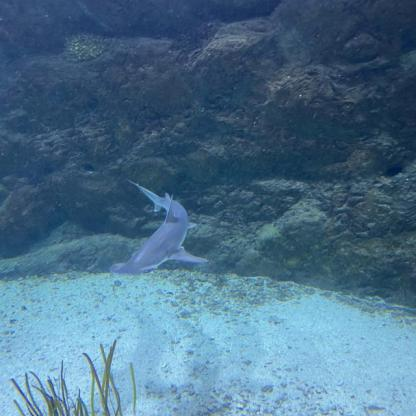shark: (110, 177, 208, 279)
